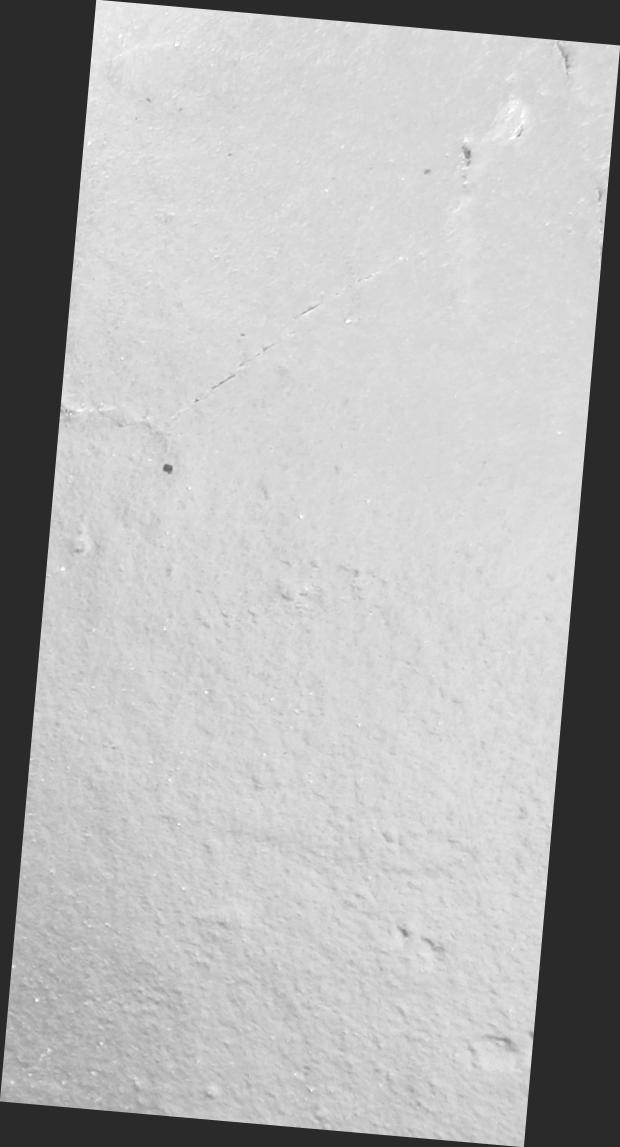crack: (1, 0, 620, 1147)
